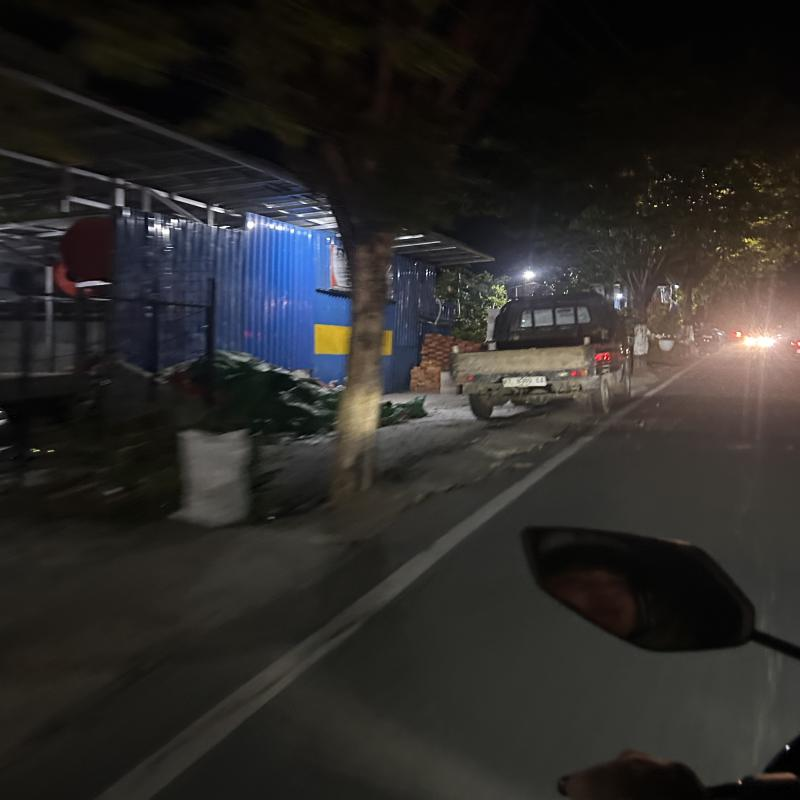license plate on a car: (497, 376, 553, 388)
